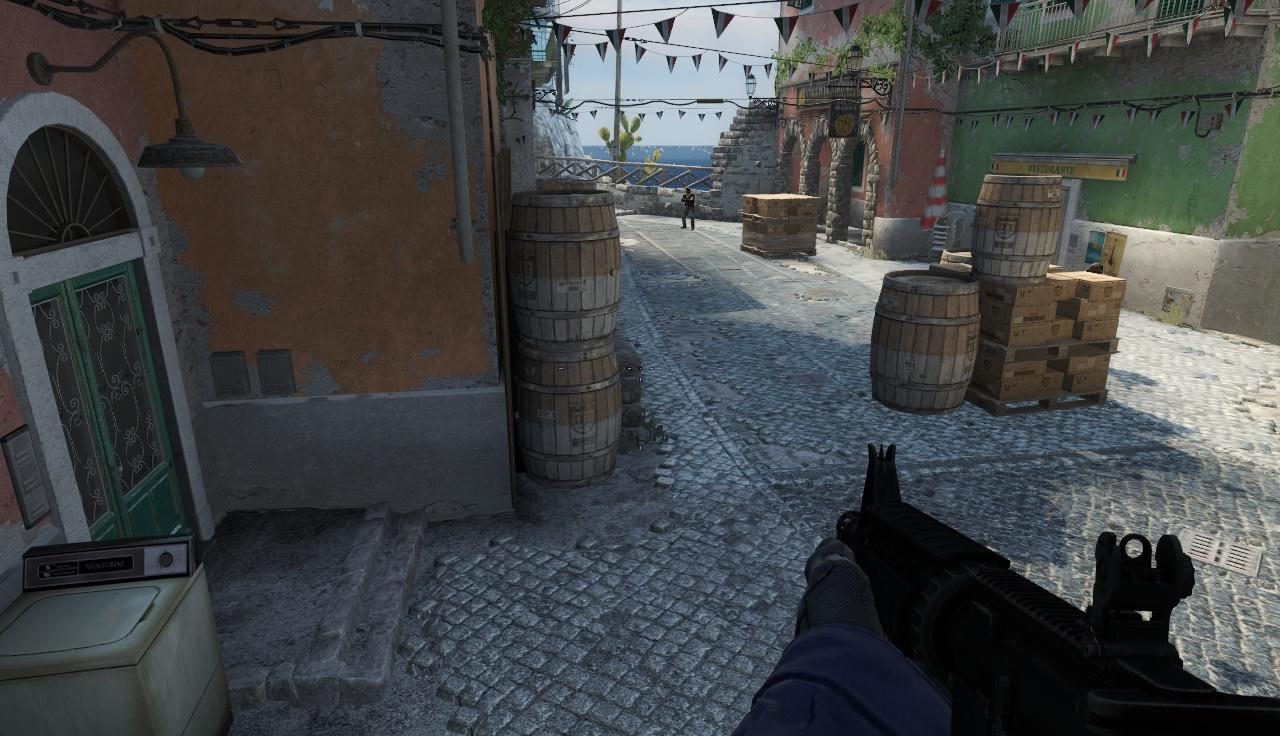rifle: (800, 449, 1253, 736)
tt: (681, 188, 695, 230)
tthead: (686, 188, 691, 195)
